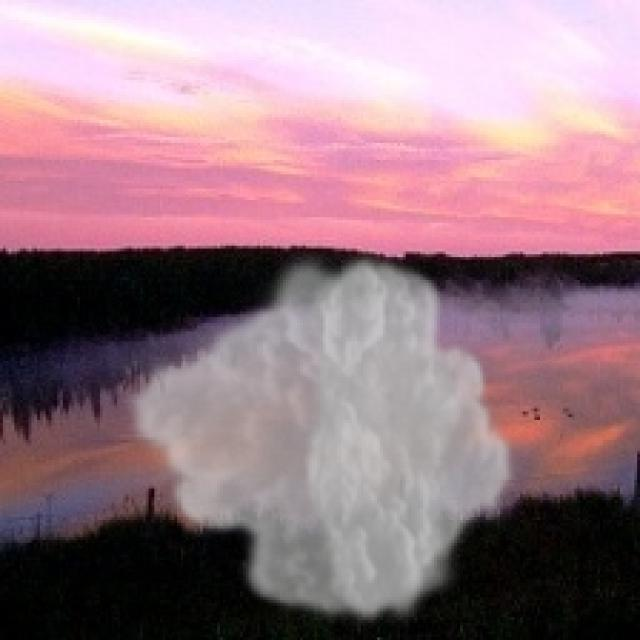Smoke: (122, 246, 518, 632)
